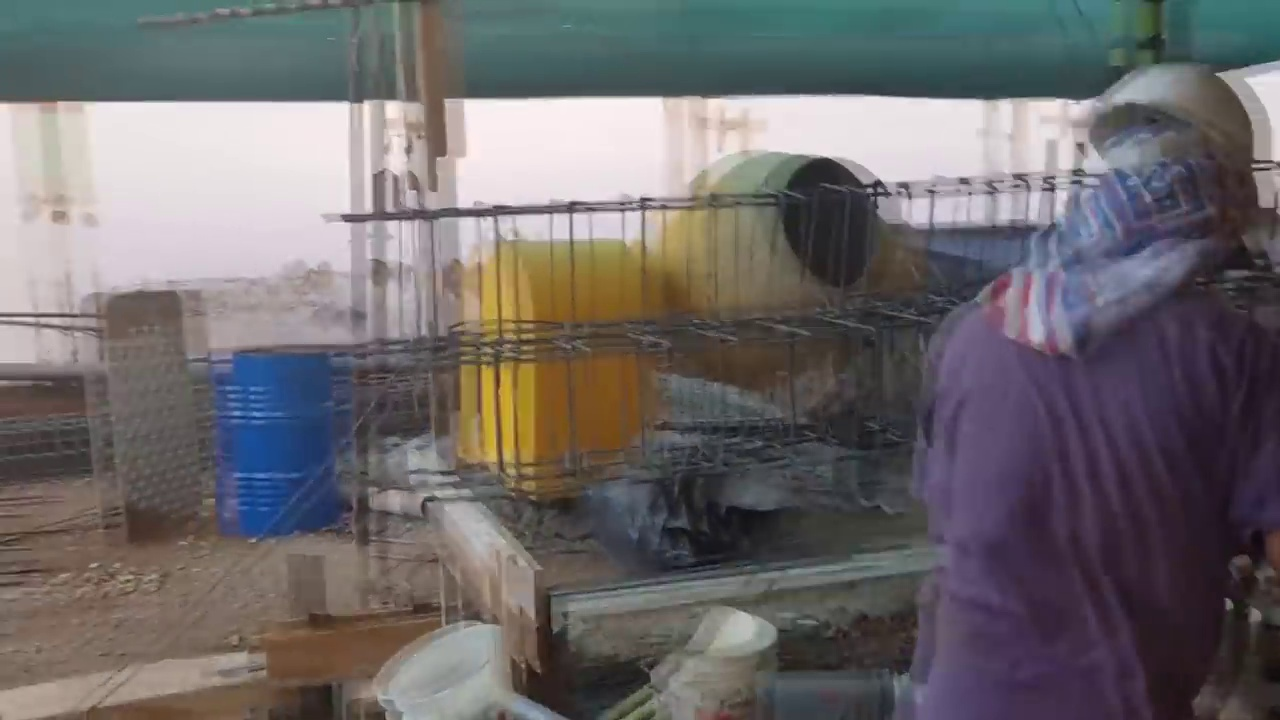helmet: (1077, 52, 1260, 167)
helmet-on: (1041, 52, 1258, 270)
person: (922, 40, 1255, 720)
